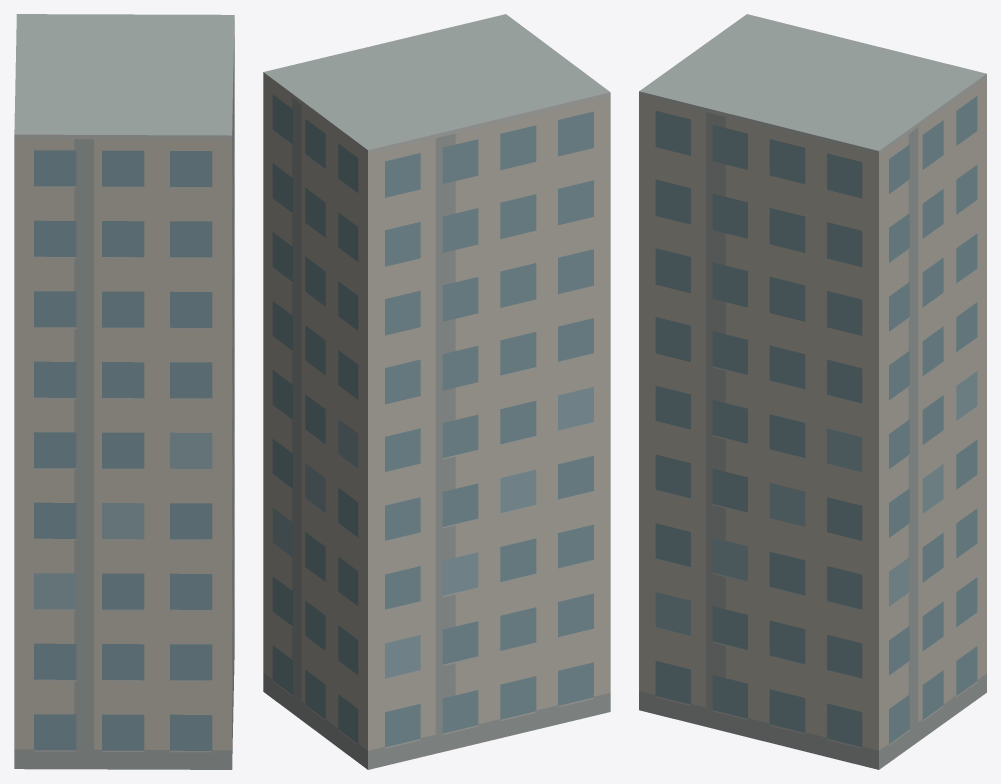
The model's file is residential-337ade8c-0c2b-4c23-a812-4b248528a310.glb.
3 renders of one model, left to right at view 1: azimuth 30°, elevation 25°; view 2: azimuth 150°, elevation 25°; view 3: azimuth 270°, elevation 25°, orthographic. The views are drawn at different scales.
Parts seen in each view (by area): view 1: residential-337ade8c-0c2b-4c23-a812-4b248528a310.tmp; view 2: residential-337ade8c-0c2b-4c23-a812-4b248528a310.tmp; view 3: residential-337ade8c-0c2b-4c23-a812-4b248528a310.tmp.
Boxes of the visible parts, x1,y1,x2,y2 form: residential-337ade8c-0c2b-4c23-a812-4b248528a310.tmp: (14, 14, 234, 769); residential-337ade8c-0c2b-4c23-a812-4b248528a310.tmp: (263, 14, 610, 769); residential-337ade8c-0c2b-4c23-a812-4b248528a310.tmp: (639, 14, 986, 769).
Size of the model in its own units: 17.1 by 36 by 18.34.
